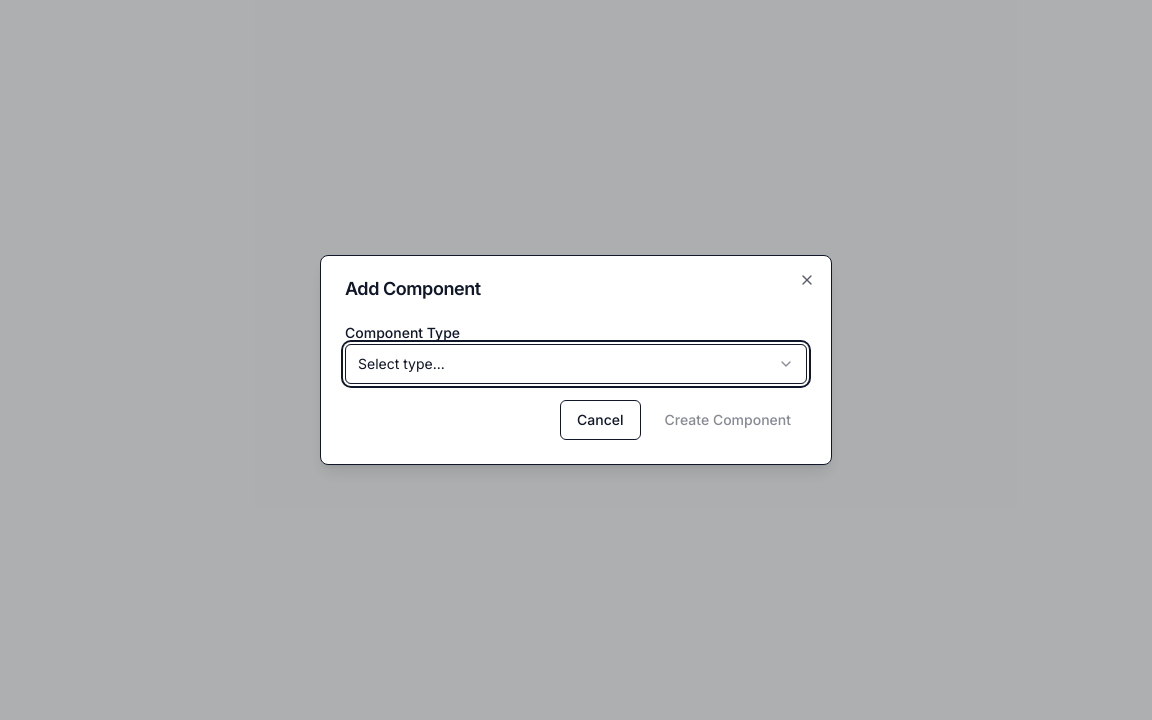
AddComponentModal › Type-specific form fields › shows commodity_code, size, quantity fields after selecting Valve
// Select Valve type
Step 1. Click the dropdown → (401, 364), box [345,344,807,384]
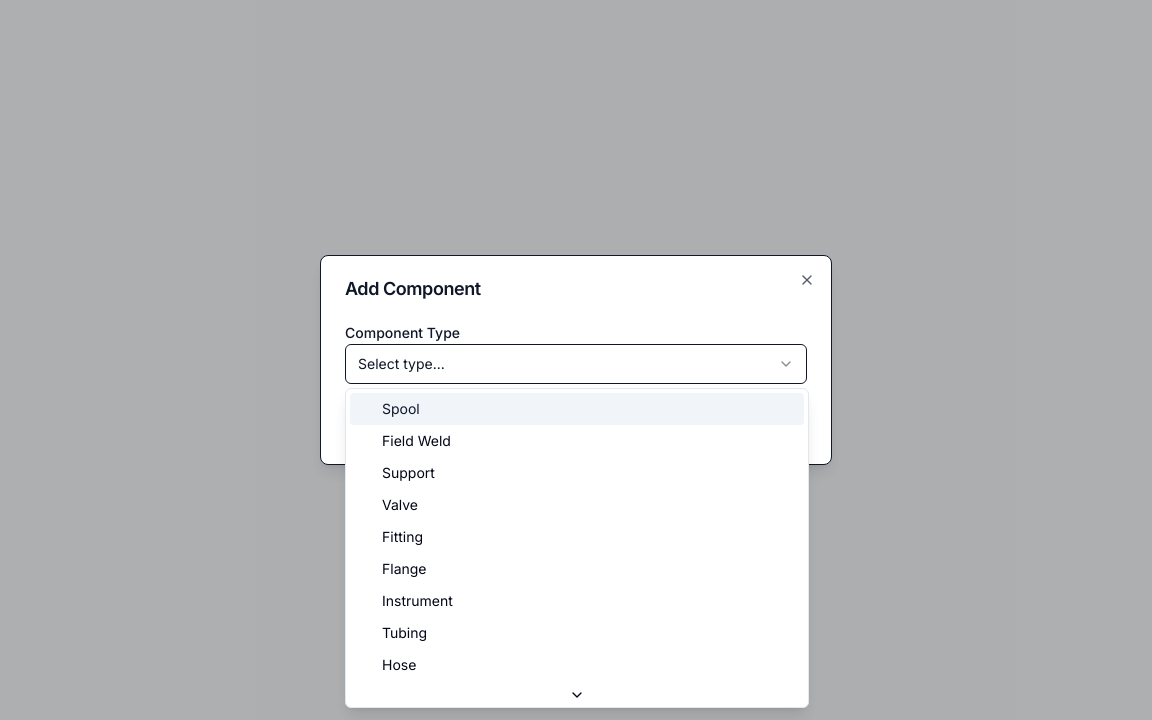
Step 2. Click the option "Valve" → (400, 504), box [382,496,418,513]
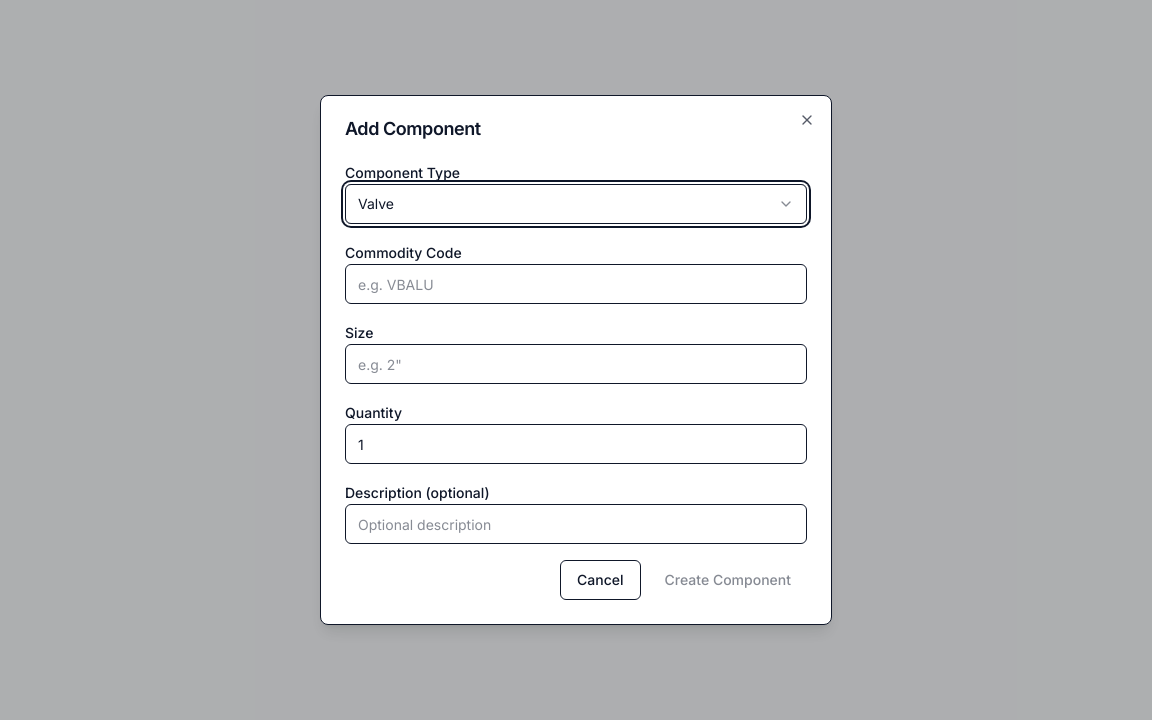
Expected: the field labelled "Commodity Code" is shown, [345,264,807,304]
Expected: the field labelled "Size" is shown, [345,344,807,384]
Expected: the number field labelled "Quantity" is shown, [345,424,807,464]
